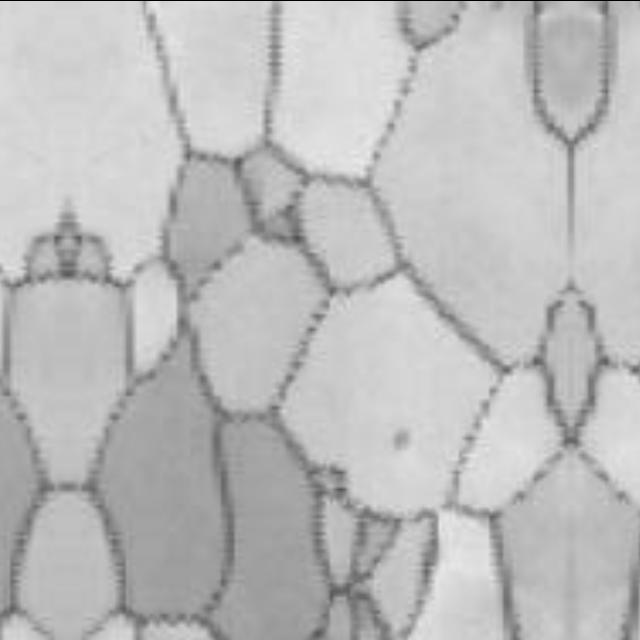good_void: (392, 424, 414, 448)
